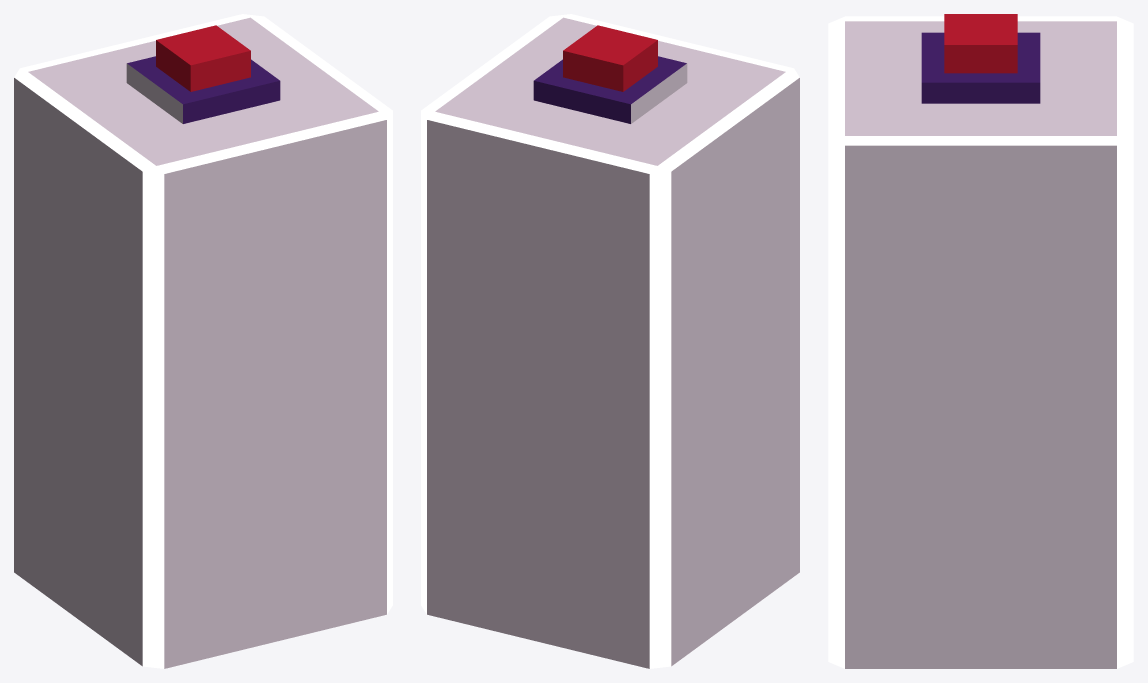
The model's file is podium.glb.
3 renders of one model, left to right at view 1: azimuth 30°, elevation 25°; view 2: azimuth 150°, elevation 25°; view 3: azimuth 270°, elevation 25°, orthographic. The views are drawn at different scales.
Parts seen in each view (by area): view 1: podium; view 2: podium; view 3: podium.
Boxes of the visible parts, bbox=[...] form: podium: bbox=[14, 14, 392, 668]; podium: bbox=[421, 14, 799, 668]; podium: bbox=[828, 14, 1133, 668].
Size of what is drawn, in the model's own units: 0.5 by 1.04 by 0.5.
